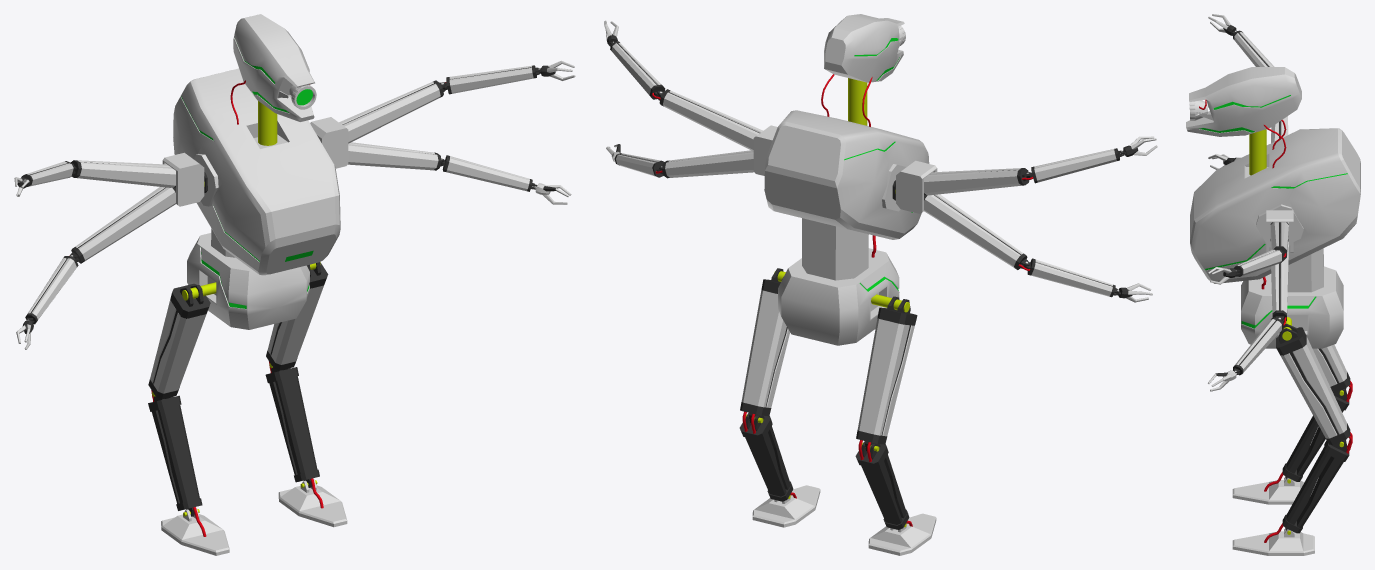
The model's file is BCC-410.fbx.
The picture shows the model from 3 angles, left to right: view 1: azimuth 30°, elevation 25°; view 2: azimuth 150°, elevation 25°; view 3: azimuth 270°, elevation 25°; orthographic projection. The views are drawn at different scales.
Visible parts, largest first — view 1: unwrap; view 2: unwrap; view 3: unwrap.
Part boxes in pixels (x1=…): unwrap: x1=14, y1=14, x2=575, y2=555; unwrap: x1=604, y1=14, x2=1157, y2=555; unwrap: x1=1186, y1=14, x2=1360, y2=555.
Bounding box in the file's own units: 267 × 230 × 80.5.
